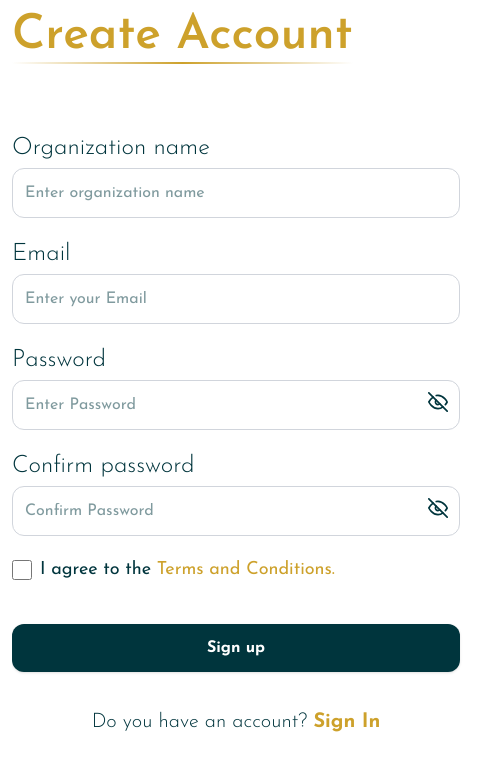
Test: RegisterForm › validates organization name (only numbers = invalid)
In the field labelled "Organization name": point(236, 193) [12, 168, 460, 218], type "12345"
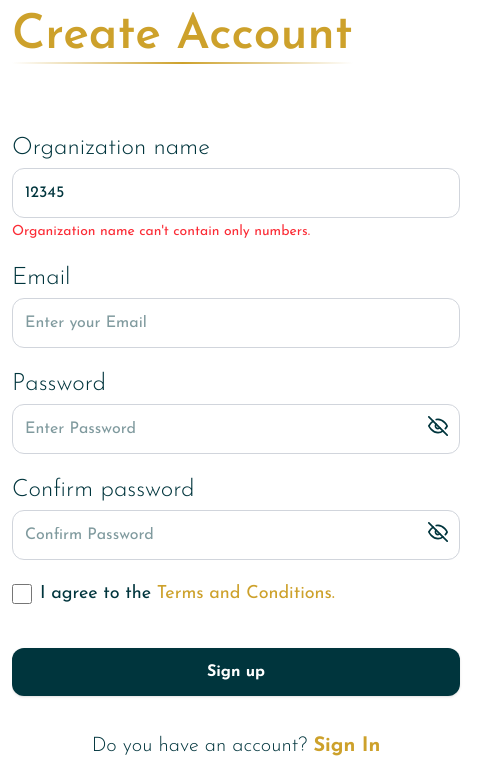
Result: the text "Organization name can't contain only numbers." is shown at [12, 224, 310, 239]
